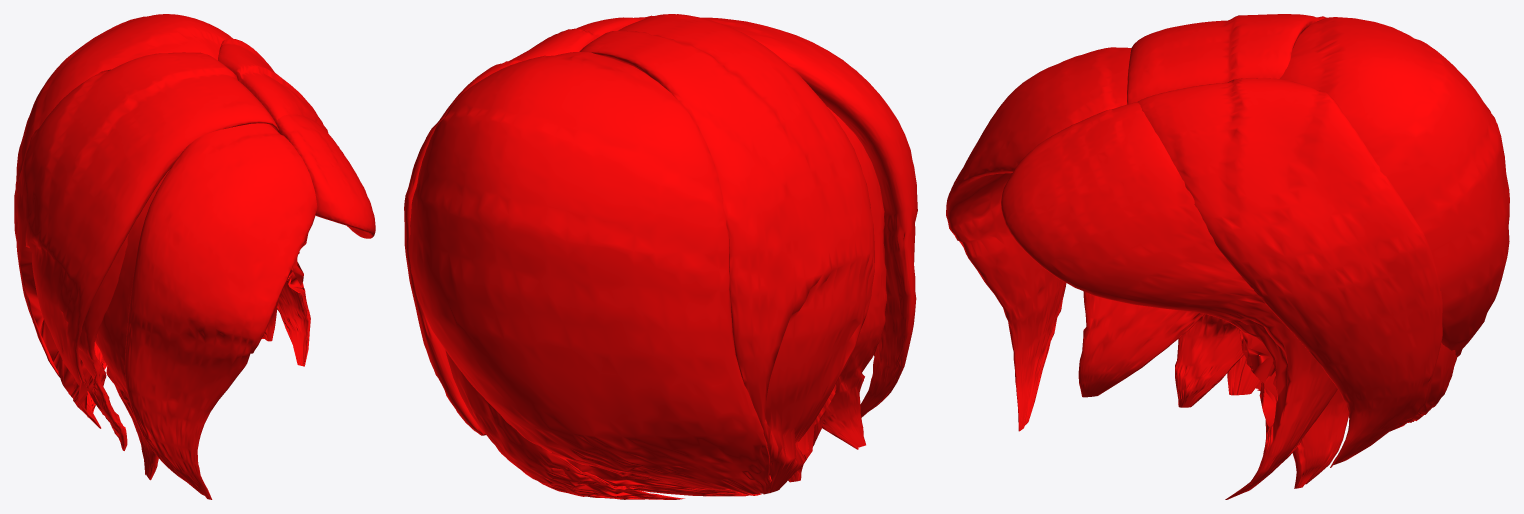
The model's file is elvs_short_side_do_M.glb.
3 renders of one model, left to right at view 1: azimuth 30°, elevation 25°; view 2: azimuth 150°, elevation 25°; view 3: azimuth 270°, elevation 25°, orthographic. The views are drawn at different scales.
Size of the model in its own units: 0.2199 by 0.2558 by 0.2954.
Materials: 1 (1 with a texture image).
